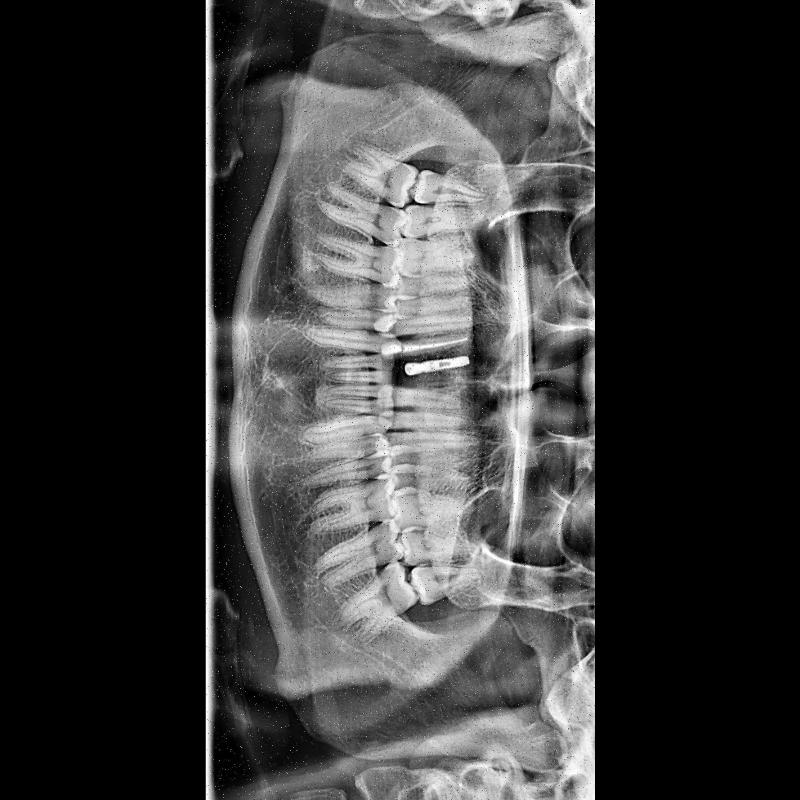osstem: (422, 350, 472, 378)
